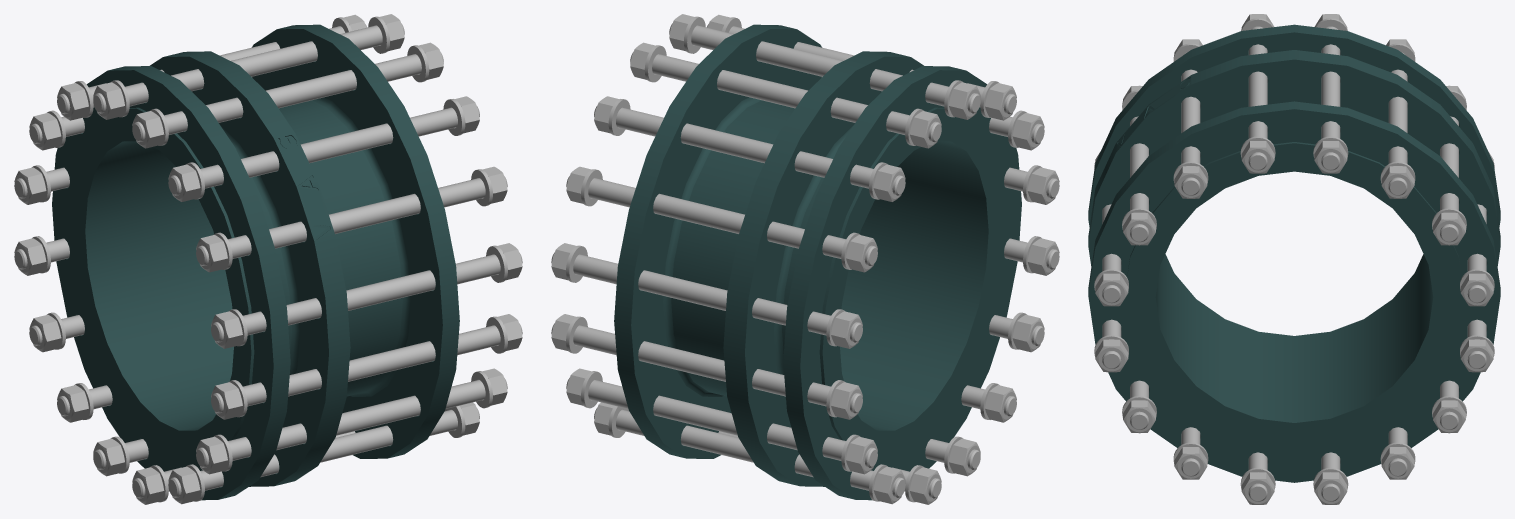
Rendered from DISJ.glb.
3 renders of one model, left to right at view 1: azimuth 30°, elevation 25°; view 2: azimuth 150°, elevation 25°; view 3: azimuth 270°, elevation 25°, orthographic. The views are drawn at different scales.
Parts seen in each view (by area): view 1: VAG Ausbaustuck feststellbar - beidseitig Gewindeanker_DN350 (×40); view 2: VAG Ausbaustuck feststellbar - beidseitig Gewindeanker_DN350 (×40); view 3: VAG Ausbaustuck feststellbar - beidseitig Gewindeanker_DN350 (×33).
Part boxes in pixels (left/top/right/bottom): VAG Ausbaustuck feststellbar - beidseitig Gewindeanker_DN350 (×40): left=14, top=14, right=522, bottom=504; VAG Ausbaustuck feststellbar - beidseitig Gewindeanker_DN350 (×40): left=551, top=14, right=1059, bottom=504; VAG Ausbaustuck feststellbar - beidseitig Gewindeanker_DN350 (×33): left=1088, top=24, right=1500, bottom=504.
Bounding box in the file's own units: 0.41 × 0.52 × 0.52.
